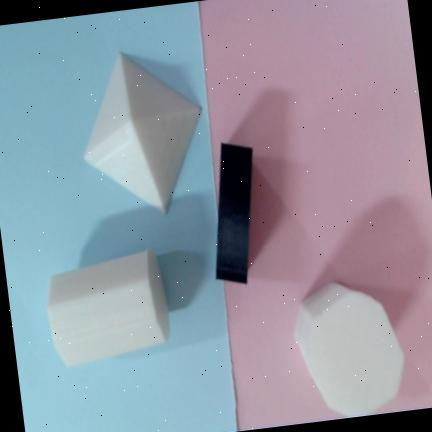Paralelepipedo: (216, 142, 251, 282)
Piramide: (84, 53, 200, 211)
Prisma_hexagonal: (294, 282, 403, 415), (47, 250, 169, 366)
